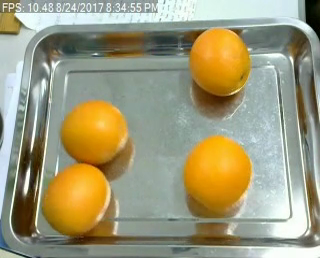Orange: (182, 135, 252, 209), (41, 163, 111, 234), (189, 27, 251, 98), (59, 101, 128, 164)
